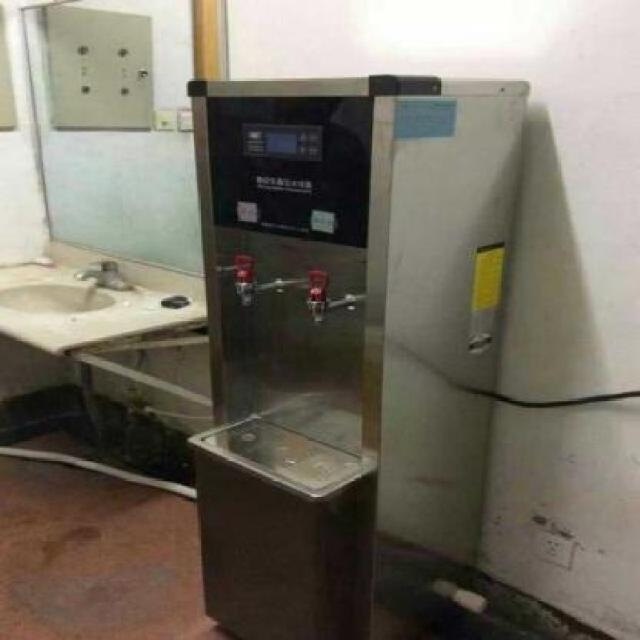cooler: (174, 71, 542, 640)
